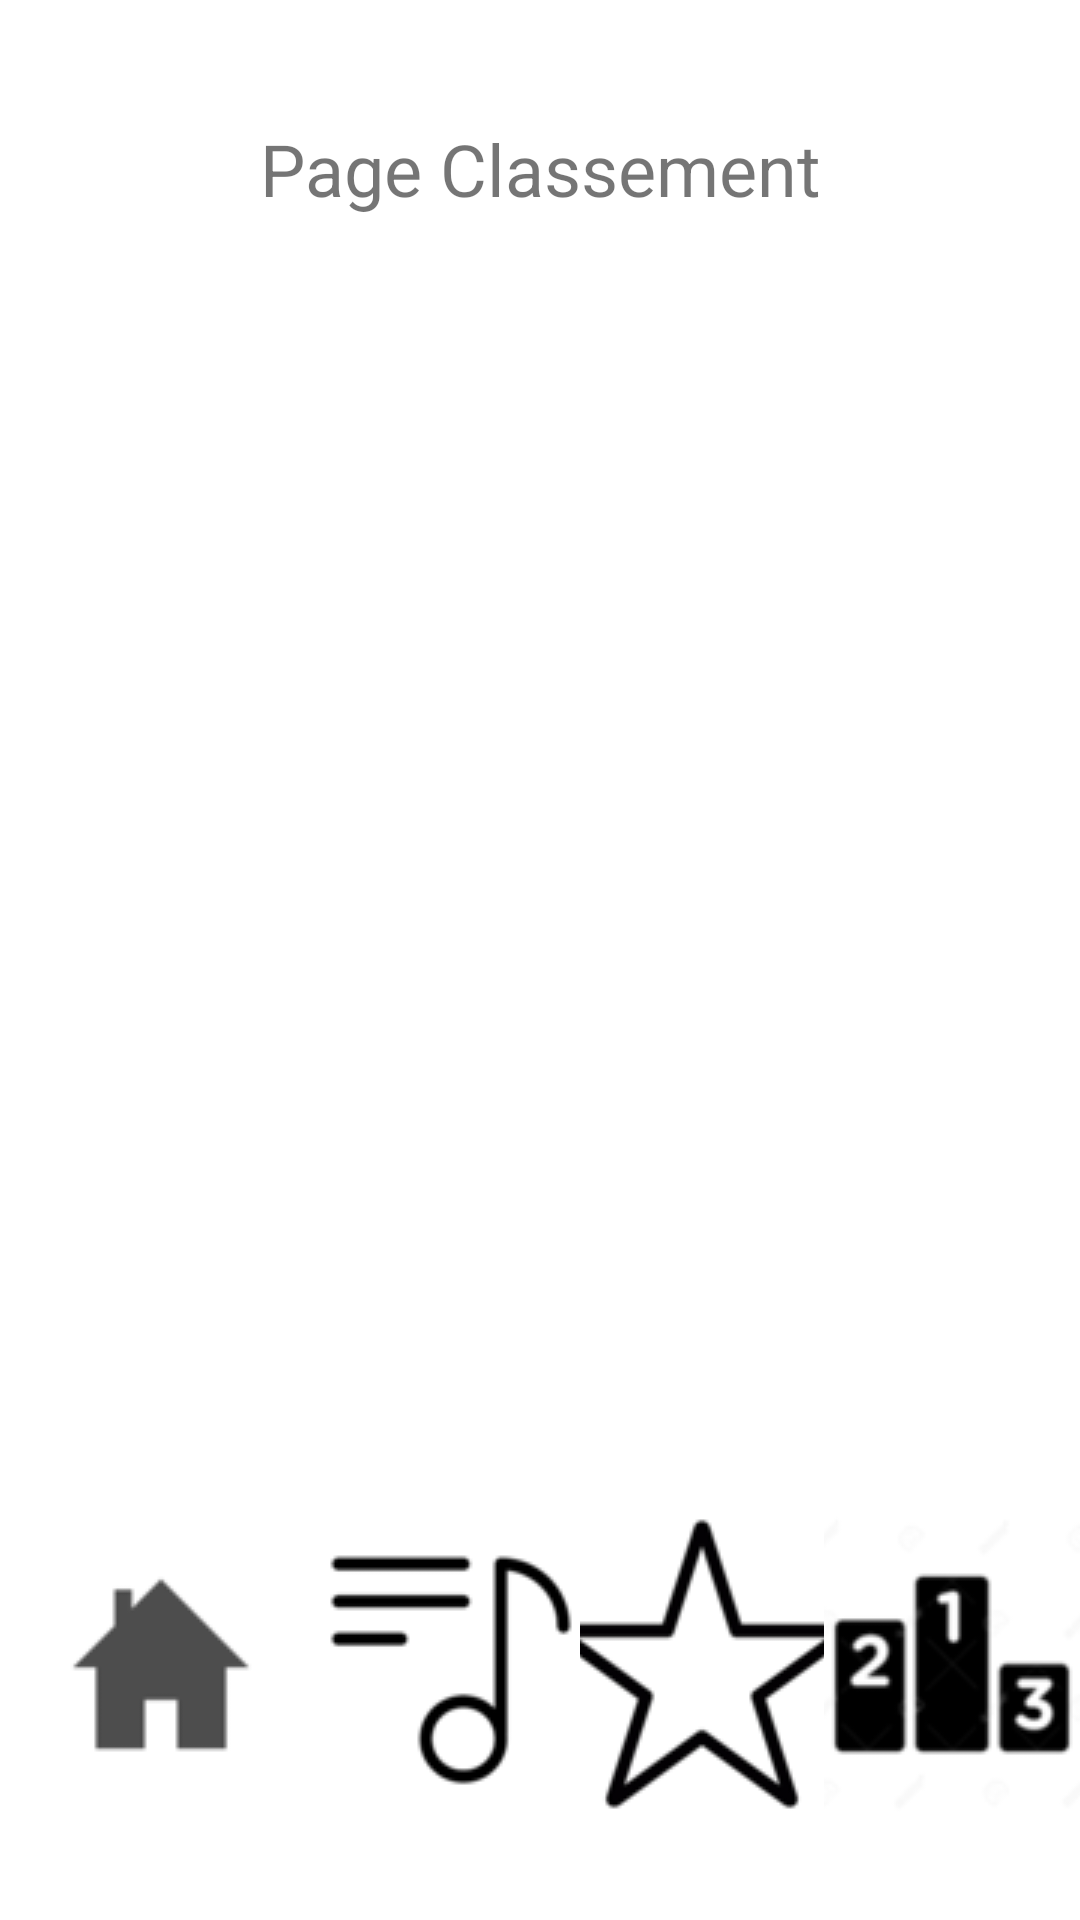

Where to tap for icons on this 1080*1920 app screen, as (x,y):
accueil: (161,1665)
classement: (952,1664)
favoris: (702,1664)
paroles: (451,1670)
